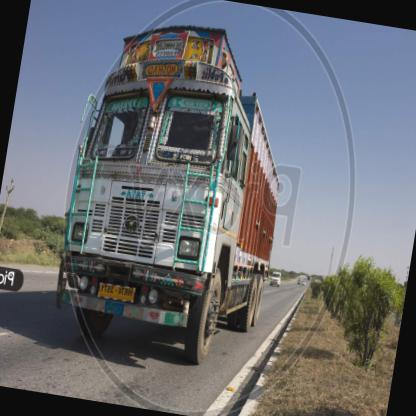car: (268, 272, 283, 288)
truck: (47, 10, 304, 375)
